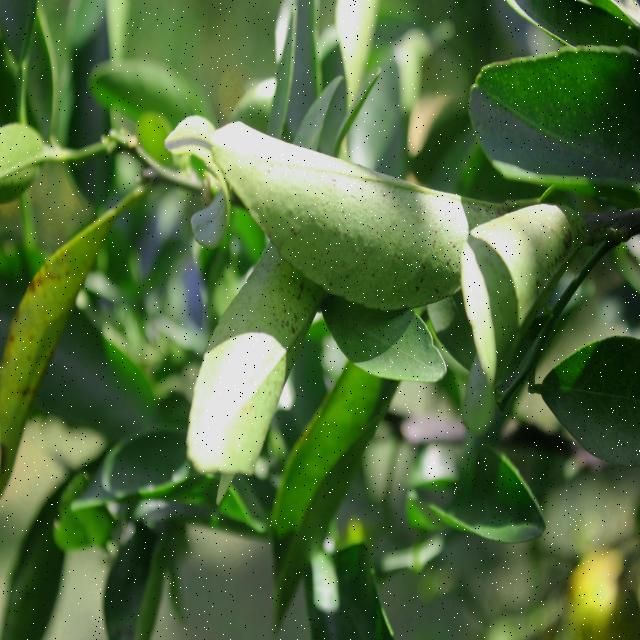melanose: (225, 99, 517, 307), (0, 183, 135, 493), (188, 244, 328, 486)
